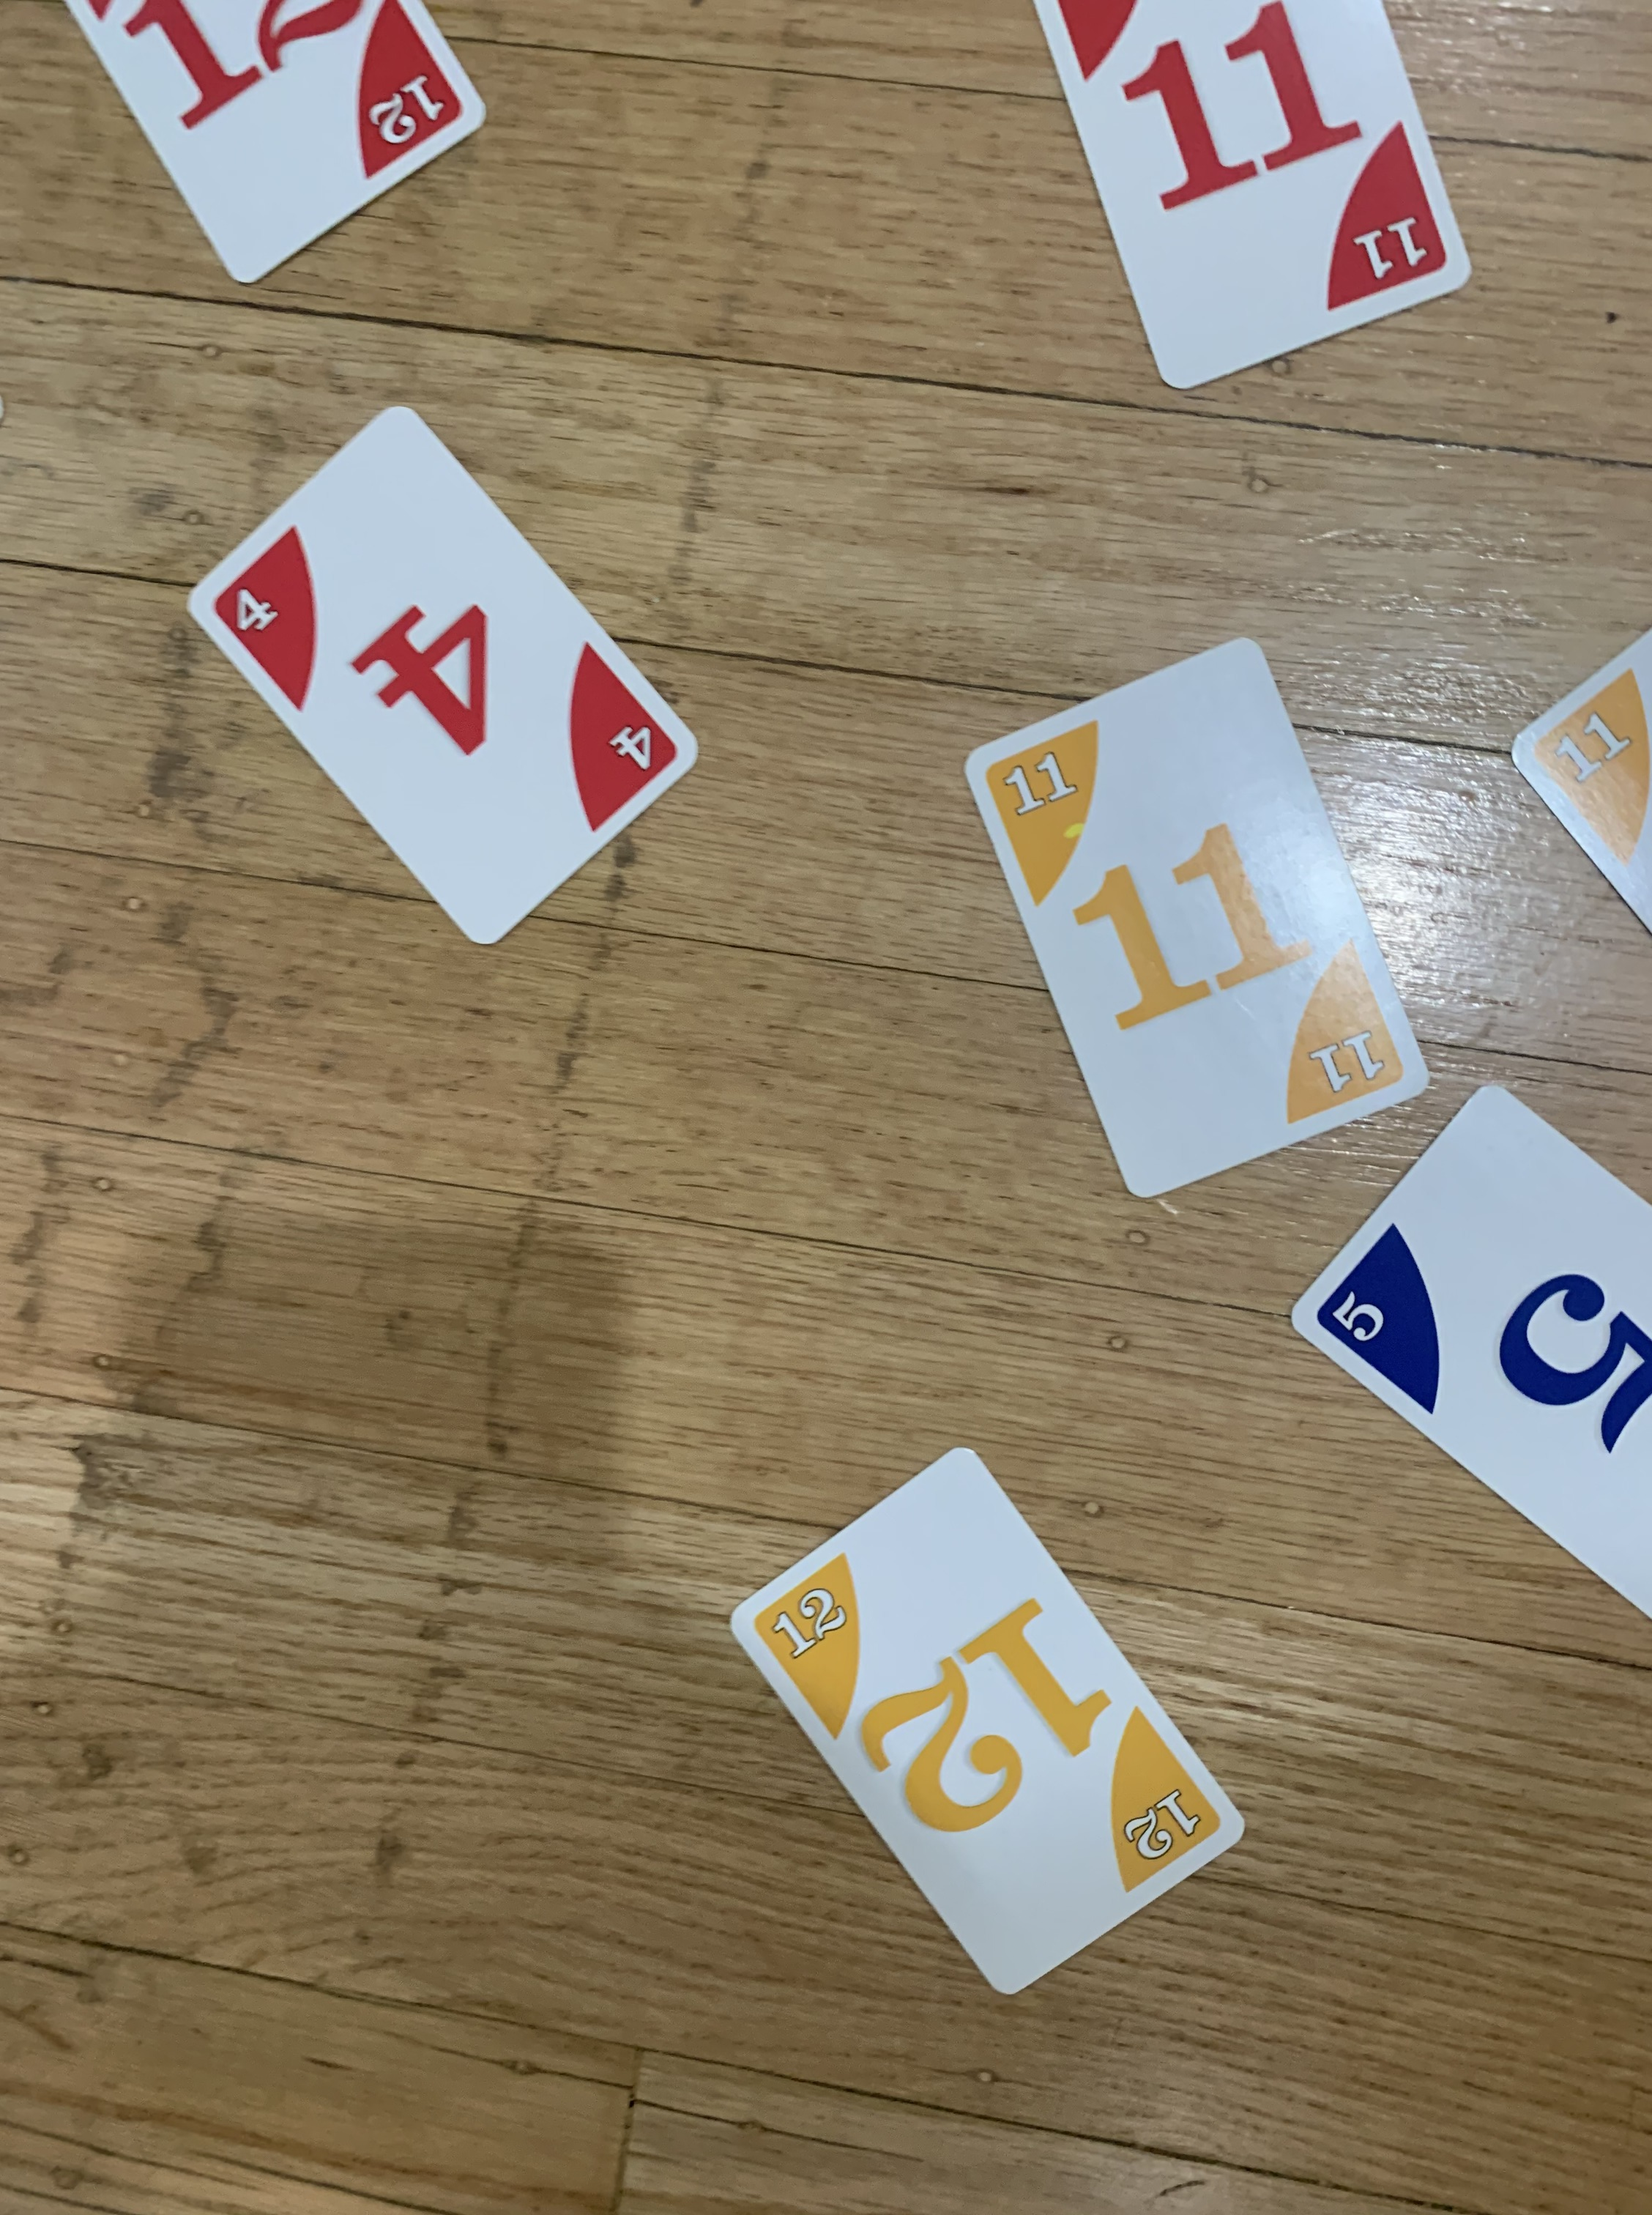eleven: (947, 634, 1439, 1212), (1013, 0, 1478, 410)
five: (1281, 1069, 1652, 1646)
four: (177, 391, 711, 960)
twelve: (705, 1427, 1260, 2010)
